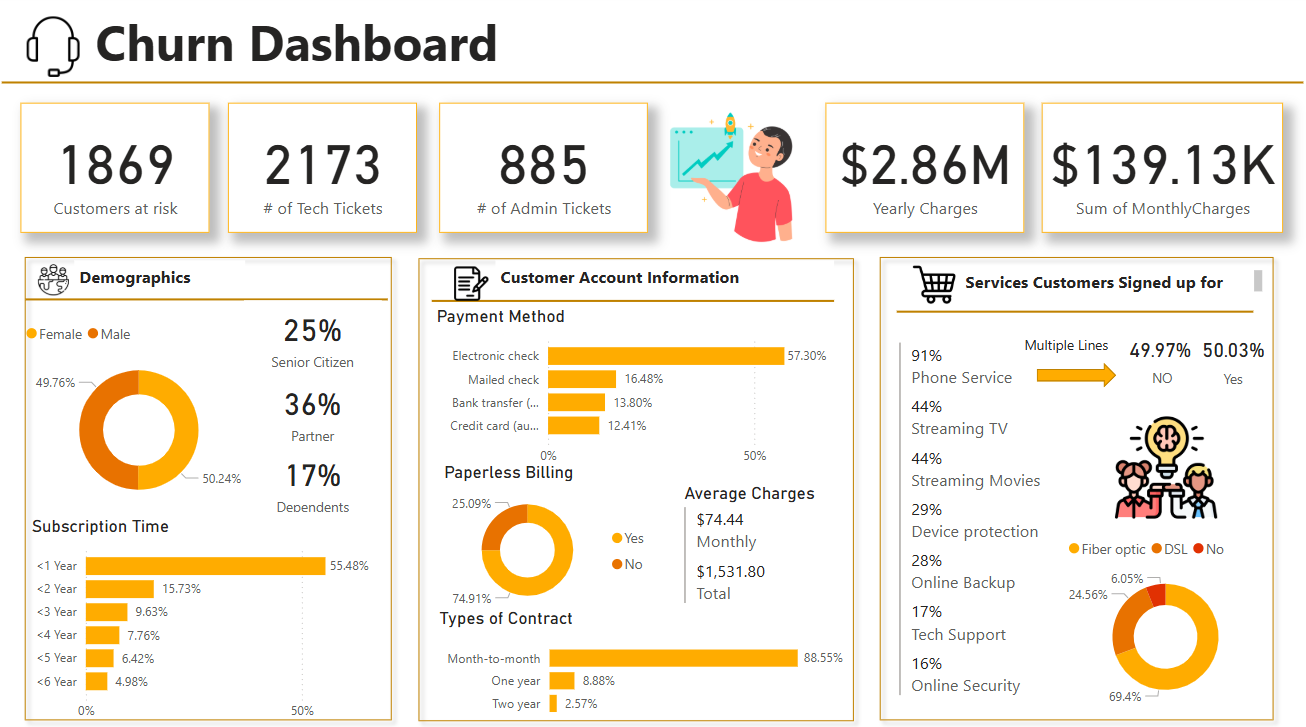

This screenshot's page, from the dashboard's own definition file:
{"tool":"powerbi","page":{"name":"Page 2","canvas":[1280,720],"ordinal":1},"visuals":[{"type":"textbox","box":[10,0,280,280],"z":0},{"type":"textbox","box":[90.4,8.9,510.7,78],"z":1000},{"type":"shape","box":[3.5,74.5,1273.3,23.9],"z":2000},{"type":"card","fields":{"Values":["CountNonNull(01 Churn-Dataset.customerID)"]},"box":[22.4,106.9,184.7,127.3],"z":3000},{"type":"card","fields":{"Values":["Sum(01 Churn-Dataset.numTechTickets)"]},"box":[225.5,106.9,184.7,127.3],"z":4000},{"type":"card","fields":{"Values":["Sum(01 Churn-Dataset.MonthlyCharges)"]},"box":[1021.5,106.9,236.2,127.3],"z":5000},{"type":"card","fields":{"Values":["Sum(01 Churn-Dataset.numAdminTickets)"]},"box":[431.5,106.9,204.1,127.3],"z":6000},{"type":"card","fields":{"Values":["Sum(01 Churn-Dataset.TotalCharges)"]},"box":[809.6,106.9,194.4,127.3],"z":7000},{"type":"shape","box":[16.5,248.8,377.1,471.4],"z":8000},{"type":"textbox","box":[74,260,167,40],"z":9000},{"type":"shape","box":[27.2,286.7,354.7,25.3],"z":10000},{"type":"donutChart","fields":{"Category":["01 Churn-Dataset.gender"],"Y":["CountNonNull(01 Churn-Dataset.gender)"]},"box":[22,312,232,200],"z":11000},{"type":"card","fields":{"Values":["Churn.% of Senior Citizen"]},"box":[241,300,134,73],"z":12000},{"type":"card","fields":{"Values":["Churn.% of Partner"]},"box":[241,373,134,70],"z":13000},{"type":"card","fields":{"Values":["Churn.% of Dependents"]},"box":[241,443,134,69],"z":14000},{"type":"clusteredBarChart","title":"Subscription Time","fields":{"Y":["CountNonNull(Churn.Churn)"],"Category":["Churn.Tenure (In years)"]},"box":[28.2,510.1,351.8,209.9],"z":15000},{"type":"shape","box":[402,249,444,471],"z":16000},{"type":"shape","box":[853.3,248.8,403.3,471.4],"z":17000},{"type":"textbox","box":[487,261,331,40],"z":18000},{"type":"shape","box":[424.7,288.7,393.6,23.3],"z":19000},{"type":"clusteredBarChart","title":"Payment Method","fields":{"Category":["Churn.PaymentMethod"],"Y":["CountNonNull(Churn.PaymentMethod)"]},"box":[424.7,304.2,403.3,165.2],"z":20000},{"type":"donutChart","title":"Paperless Billing","fields":{"Category":["Churn.PaperlessBilling"],"Y":["CountNonNull(Churn.PaperlessBilling)"]},"box":[431.5,457.8,213.8,154.5],"z":21000},{"type":"multiRowCard","title":"Average Charges","fields":{"Values":["Avg(Churn.MonthlyCharges)","Avg(Churn.TotalCharges)"]},"box":[667,478,161,123],"z":22000},{"type":"clusteredBarChart","title":"Types of Contract","fields":{"Category":["Churn.Contract"],"Y":["CountNonNull(Churn.Contract)"]},"box":[427,601,405,117],"z":23000},{"type":"multiRowCard","fields":{"Values":["Churn.% Phone Service","Churn.% Streaming TV","Churn.% Streaming Movies","Churn.% Device protection","Churn.% Online Backup","Churn.% Tech Support","Churn.% Online Sec."]},"box":[876.7,336.3,178.8,368.4],"z":24000},{"type":"shape","box":[1015.6,360.6,77.8,24.3],"z":25000},{"type":"textbox","box":[999.1,329.5,106.9,31.1],"z":26000},{"type":"card","fields":{"Values":["Churn.% NO-Multiple lines"]},"box":[1099.2,323.6,75.8,67.1],"z":27000},{"type":"card","fields":{"Values":["Churn.% Yes-Multiple Lines"]},"box":[1166.3,320.7,83.6,74.8],"z":28000},{"type":"donutChart","title":"Paperless Billing","fields":{"Category":["Churn.InternetService"],"Y":["CountNonNull(Churn.InternetService)"]},"box":[1042,522,201,184],"z":29000},{"type":"image","box":[16.5,17.5,73.9,69],"z":30000},{"type":"image","box":[890.3,258.5,51.5,53.5],"z":32000},{"type":"image","box":[439.3,261.4,47.6,43.7],"z":33000},{"type":"image","box":[34,258.5,39.8,42.8],"z":34000},{"type":"textbox","box":[941.8,265.3,300.3,31.1],"z":35000},{"type":"shape","box":[879.6,299.3,348.9,22.4],"z":36000},{"type":"image","box":[1087.6,408.2,110.8,109.8],"z":37000},{"type":"image","box":[640.5,99.1,153.6,159.4],"z":38000}]}

Visuals, with their boxes in screenshot pixels (x1, y1, x2, y2), scaled from the page's 1280x720 canvas onto the 1306x727 screenshot:
textbox: bbox=(10, 0, 296, 283)
textbox: bbox=(92, 9, 613, 88)
shape: bbox=(4, 75, 1303, 99)
card - CountNonNull(01 Churn-Dataset.customerID): bbox=(23, 108, 211, 236)
card - Sum(01 Churn-Dataset.numTechTickets): bbox=(230, 108, 419, 236)
card - Sum(01 Churn-Dataset.MonthlyCharges): bbox=(1042, 108, 1283, 236)
card - Sum(01 Churn-Dataset.numAdminTickets): bbox=(440, 108, 649, 236)
card - Sum(01 Churn-Dataset.TotalCharges): bbox=(826, 108, 1024, 236)
shape: bbox=(17, 251, 402, 726)
textbox: bbox=(76, 263, 246, 303)
shape: bbox=(28, 289, 390, 315)
donutChart - 01 Churn-Dataset.gender x CountNonNull(01 Churn-Dataset.gender): bbox=(22, 315, 259, 517)
card - Churn.% of Senior Citizen: bbox=(246, 303, 383, 377)
card - Churn.% of Partner: bbox=(246, 377, 383, 447)
card - Churn.% of Dependents: bbox=(246, 447, 383, 517)
"Subscription Time" clusteredBarChart: bbox=(29, 515, 388, 726)
shape: bbox=(410, 251, 863, 726)
shape: bbox=(871, 251, 1282, 726)
textbox: bbox=(497, 264, 835, 304)
shape: bbox=(433, 292, 835, 315)
"Payment Method" clusteredBarChart: bbox=(433, 307, 845, 474)
"Paperless Billing" donutChart: bbox=(440, 462, 658, 618)
"Average Charges" multiRowCard: bbox=(681, 483, 845, 607)
"Types of Contract" clusteredBarChart: bbox=(436, 607, 849, 725)
multiRowCard - Churn.% Phone Service x Churn.% Streaming TV: bbox=(895, 340, 1077, 712)
shape: bbox=(1036, 364, 1116, 389)
textbox: bbox=(1019, 333, 1128, 364)
card - Churn.% NO-Multiple lines: bbox=(1122, 327, 1199, 394)
card - Churn.% Yes-Multiple Lines: bbox=(1190, 324, 1275, 399)
"Paperless Billing" donutChart: bbox=(1063, 527, 1268, 713)
image: bbox=(17, 18, 92, 87)
image: bbox=(908, 261, 961, 315)
image: bbox=(448, 264, 497, 308)
image: bbox=(35, 261, 75, 304)
textbox: bbox=(961, 268, 1267, 299)
shape: bbox=(897, 302, 1253, 325)
image: bbox=(1110, 412, 1223, 523)
image: bbox=(654, 100, 810, 261)
